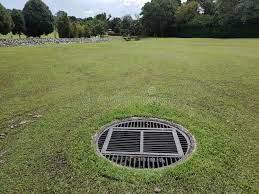open drainage-not overflowing-: (95, 115, 197, 172)
